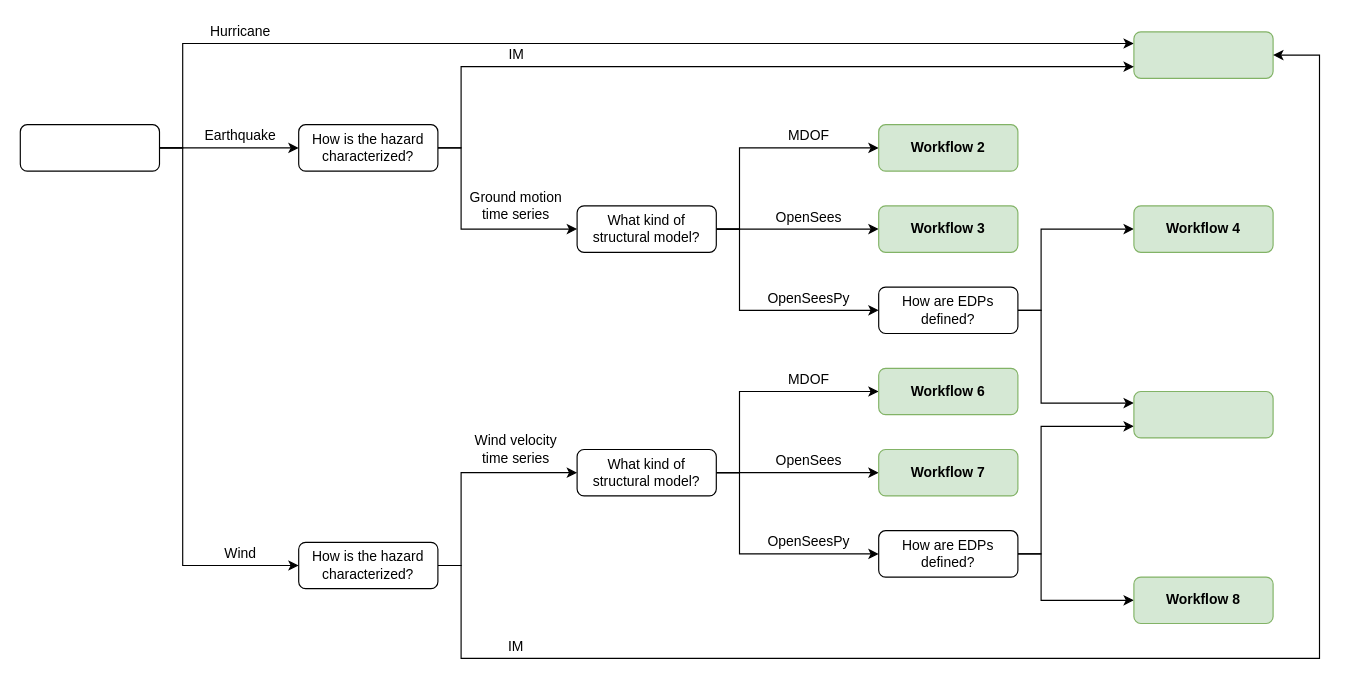
This 1349x688 diagram has some shape labels left out. The centre of each missing label's shape, as x and y in pixels:
Type of hazard?: point (89, 147)
Workflow 1: point (1203, 54)
Workflow 5: point (1203, 414)
